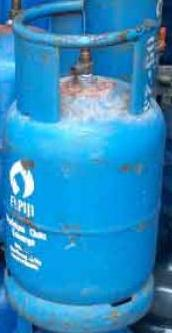cylinder: (1, 0, 172, 333)
